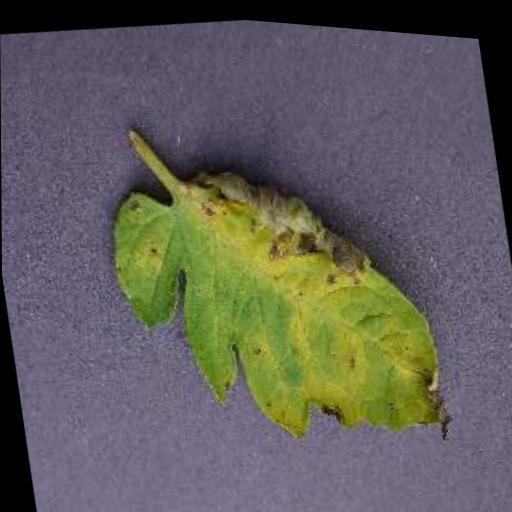Septoria: (103, 135, 457, 469)
